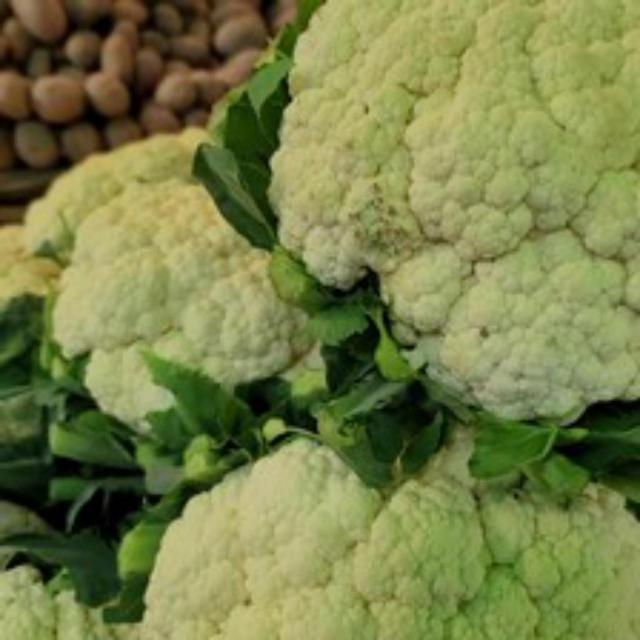cauliflower: (243, 0, 637, 426)
